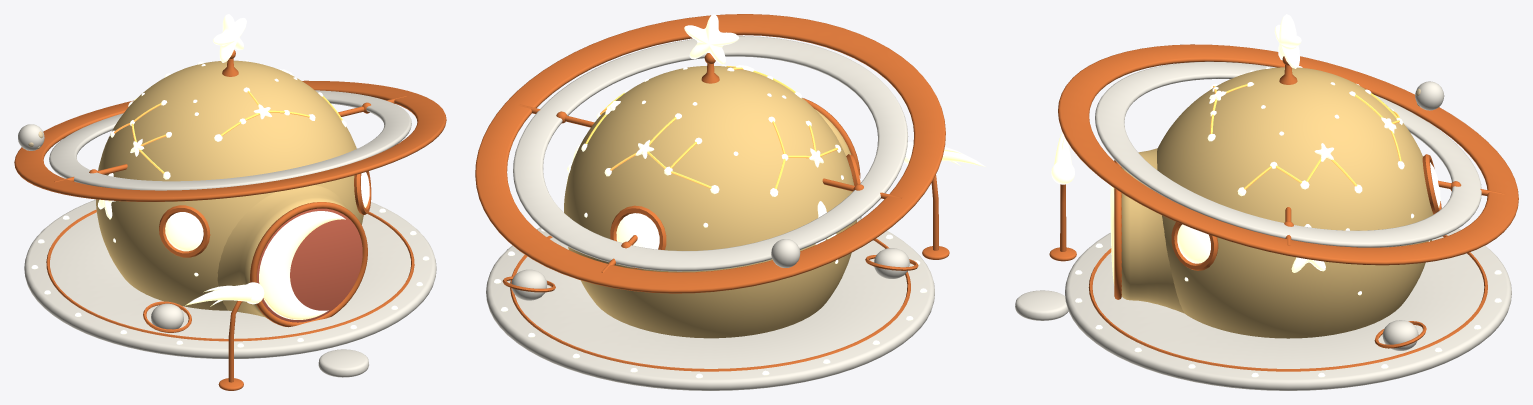
The model's file is house_07_0709.fbx.
The picture shows the model from 3 angles, left to right: view 1: azimuth 30°, elevation 25°; view 2: azimuth 150°, elevation 25°; view 3: azimuth 270°, elevation 25°; orthographic projection. The views are drawn at different scales.
Visible parts, largest first — view 1: House07_PlanetDome, House07_RingDeck_Engawa, House07_PlanetRing_Outer, House07_PlanetRing_Inner, House07_MoonDisc, House07_EntrancePod, House07_CrescentDoor, House07_MoonDiscRim, House07_DeckGoldInlay, House07_RoundWindows, House07_WindowRims, House07_MoonStep (+10 smaller); view 2: House07_PlanetDome, House07_RingDeck_Engawa, House07_PlanetRing_Outer, House07_PlanetRing_Inner, House07_DeckGoldInlay, House07_PlanetStools, House07_TopStar, House07_ConstellationLines, House07_RoundWindows, House07_WindowRims, House07_RingSupports, House07_ConstellationDots (+6 smaller); view 3: House07_PlanetDome, House07_RingDeck_Engawa, House07_PlanetRing_Outer, House07_PlanetRing_Inner, House07_EntrancePod, House07_DeckGoldInlay, House07_MoonStep, House07_RoundWindows, House07_WindowRims, House07_TopStar, House07_MoonDiscRim, House07_ConstellationLines (+6 smaller).
Boxes of the visible parts, box(x1,y1,x2,y2) form: House07_PlanetDome: box(96, 60, 363, 310); House07_RingDeck_Engawa: box(24, 199, 436, 358); House07_PlanetRing_Outer: box(14, 80, 446, 201); House07_PlanetRing_Inner: box(49, 90, 411, 190); House07_MoonDisc: box(257, 208, 362, 322); House07_EntrancePod: box(217, 185, 347, 318); House07_CrescentDoor: box(259, 211, 345, 319); House07_MoonDiscRim: box(250, 202, 367, 327); House07_DeckGoldInlay: box(46, 209, 414, 341); House07_RoundWindows: box(165, 172, 369, 251); House07_WindowRims: box(159, 171, 371, 257); House07_MoonStep: box(318, 349, 368, 377); House07_PlanetDome: box(564, 66, 856, 338); House07_RingDeck_Engawa: box(486, 218, 934, 390); House07_PlanetRing_Outer: box(475, 14, 945, 293); House07_PlanetRing_Inner: box(513, 36, 908, 271); House07_DeckGoldInlay: box(510, 235, 910, 371); House07_PlanetStools: box(511, 248, 909, 300); House07_TopStar: box(684, 14, 738, 64); House07_ConstellationLines: box(585, 66, 837, 188); House07_RoundWindows: box(616, 175, 860, 249); House07_WindowRims: box(610, 154, 860, 269); House07_RingSupports: box(518, 104, 902, 272); House07_ConstellationDots: box(568, 65, 843, 263); House07_PlanetDome: box(1157, 67, 1433, 338); House07_RingDeck_Engawa: box(1065, 228, 1511, 390); House07_PlanetRing_Outer: box(1058, 44, 1518, 265); House07_PlanetRing_Inner: box(1095, 61, 1481, 247); House07_EntrancePod: box(1121, 148, 1184, 313); House07_DeckGoldInlay: box(1088, 235, 1487, 371); House07_MoonStep: box(1015, 290, 1068, 320); House07_RoundWindows: box(1177, 162, 1440, 263); House07_WindowRims: box(1171, 154, 1441, 270); House07_TopStar: box(1274, 14, 1301, 68); House07_MoonDiscRim: box(1114, 160, 1121, 299); House07_ConstellationLines: box(1210, 84, 1401, 189).
Size of the model in its own units: 5.48 by 3.79 by 5.86.
